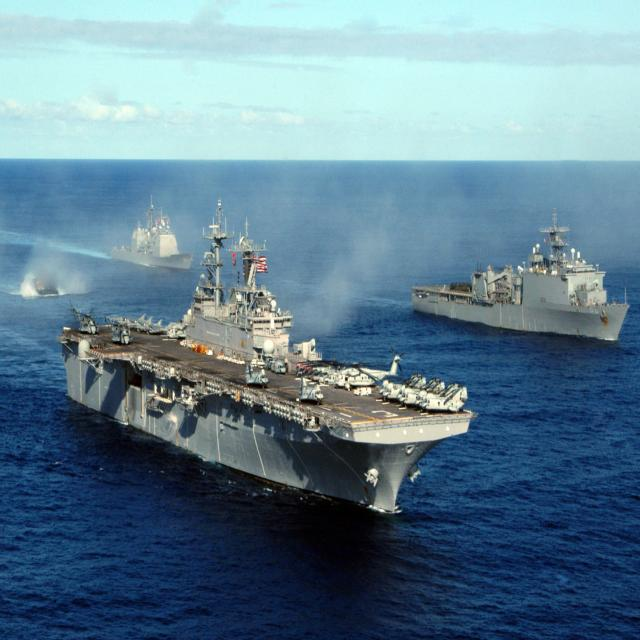navalvessels: (32, 243, 479, 510), (390, 205, 632, 342), (108, 194, 192, 279)
